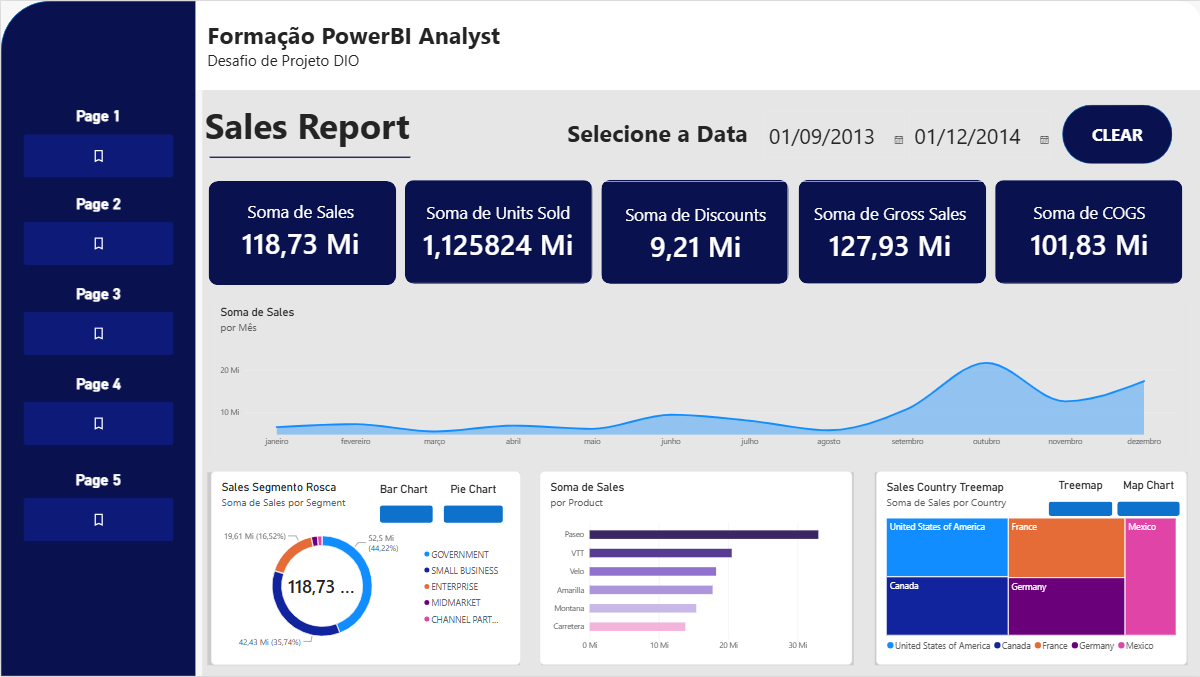

The dashboard page shown, as its layout file describes it:
{"tool":"powerbi","page":{"name":"Página 1","canvas":[1920,1080],"ordinal":0},"visuals":[{"type":"shape","box":[322.5,115,1597.5,965],"z":0},{"type":"shape","title":"Clear","box":[1697.9,166,176.2,94.5],"z":0,"group":"g3"},{"type":"shape","box":[644.5,286,300.5,166.7],"z":0,"group":"g1"},{"type":"shape","box":[330,287.2,300.5,166.7],"z":0,"group":"g6"},{"type":"clusteredBarChart","title":"Sales Segmento Barra","fields":{"Category":["financials.Segment"],"Y":["Sum(financials.Sales)"]},"box":[335,752.5,495,310],"z":0,"group":"g5"},{"type":"treemap","title":"Sales Country Treemap","fields":{"Group":["financials.Country"],"Values":["Sum(financials.Sales)"]},"box":[1400,752.5,497.5,310],"z":0,"group":"g4"},{"type":"shape","box":[863,753.2,500.4,308.9],"z":0,"group":"g2"},{"type":"shape","box":[312.5,0,1608.5,143],"z":1000},{"type":"slicer","fields":{"Values":["financials.Date"]},"box":[1210,170,510,85],"z":1000,"group":"g3"},{"type":"group","id":"g1","title":"Grupo 2","box":[325,285,1564.8,169.2],"z":1000,"group":"g6"},{"type":"shape","box":[959.4,286,300.5,166.7],"z":1000,"group":"g1"},{"type":"donutChart","title":"Sales Segmento Rosca","fields":{"Category":["financials.Segment"],"Y":["Sum(financials.Sales)"]},"box":[335,752.5,495,310],"z":1000,"group":"g5"},{"type":"shape","box":[329.4,753.2,500.4,308.9],"z":1000,"group":"g2"},{"type":"shape","box":[0,0,311.5,1080],"z":2000},{"type":"textbox","box":[905,185,297.5,70],"z":2000,"group":"g3"},{"type":"shape","box":[1274.3,286,300.5,166.7],"z":2000,"group":"g1"},{"type":"shape","box":[1396.6,753.2,500.4,308.9],"z":2000,"group":"g2"},{"type":"actionButton","title":"Treemap","box":[1676.2,763.7,102.5,60],"z":2000,"group":"g4"},{"type":"actionButton","title":"Bar Chart","box":[605,771.3,85,65],"z":2000,"group":"g5"},{"type":"textbox","box":[329.4,28.1,574.5,86.8],"z":3000},{"type":"actionButton","box":[1697.5,165,175,95],"z":3000,"group":"g3"},{"type":"shape","box":[1589.3,286,300.5,166.7],"z":3000,"group":"g1"},{"type":"actionButton","title":"Map Chart","box":[1786.2,763.7,100,60],"z":3000,"group":"g4"},{"type":"actionButton","title":"Pie Chart","box":[707.5,771.3,95,65],"z":3000,"group":"g5"},{"type":"shape","box":[334.5,240,321,20],"z":4000},{"type":"cardVisual","fields":{"Data":["Sum(financials.COGS)"]},"box":[1588,285,301.7,166.7],"z":4000,"group":"g1"},{"type":"textbox","box":[325,160,545,105],"z":5000},{"type":"cardVisual","fields":{"Data":["Sum(financials.Gross Sales)"]},"box":[1256.2,286.9,327.5,165],"z":5000,"group":"g1"},{"type":"cardVisual","fields":{"Data":["Sum(financials.Discounts)"]},"box":[958,287.5,301.7,166.7],"z":6000,"group":"g1"},{"type":"shape","box":[329.4,472.3,1567.7,263],"z":6000},{"type":"cardVisual","fields":{"Data":["Sum(financials.Units Sold)"]},"box":[643,285,301.7,166.7],"z":7000,"group":"g1"},{"type":"group","id":"g2","title":"Grupo 1","box":[329.4,753.2,1567.7,308.9],"z":7000},{"type":"cardVisual","fields":{"Data":["Sum(financials.Sales)"]},"box":[325,285,307.5,165],"z":8000,"group":"g1"},{"type":"areaChart","fields":{"Category":["financials.Date.Variation.Hierarquia de datas.Mês"],"Y":["Sum(financials.Sales)"]},"box":[334.5,472.3,1562.6,263],"z":8000},{"type":"clusteredBarChart","fields":{"Category":["financials.Product"],"Y":["Sum(financials.Sales)"]},"box":[862.5,752.5,500,310],"z":9000},{"type":"group","id":"g3","title":"Filtro por Data","box":[905,165,969,95.4],"z":10000},{"type":"group","id":"g4","title":"Sales x Country","box":[1400,752.5,497.5,310],"z":11000},{"type":"group","id":"g5","title":"Sales x Segmento","box":[335,752.5,495,310],"z":12000},{"type":"group","id":"g6","title":"Grupo 3","box":[325,285,1565,167.5],"z":13000},{"type":"actionButton","title":"Page 5","box":[35.5,751.3,240,112.5],"z":13250,"group":"g7"},{"type":"actionButton","title":"Page 4","box":[35.5,596.8,240,112.5],"z":13500,"group":"g7"},{"type":"group","id":"g7","title":"Grupo 3","box":[35,169,240.5,694.8],"z":14000},{"type":"actionButton","title":"Page 3","box":[35,452.5,240,112.5],"z":14000,"group":"g7"},{"type":"actionButton","title":"Page 2","box":[35.5,308.8,240,112.5],"z":15000,"group":"g7"},{"type":"actionButton","title":"Page 1","box":[35.5,169,240,112.5],"z":16000,"group":"g7"}]}

Visuals, with their boxes in screenshot pixels (x1, y1, x2, y2), scaled from the page's 1920x1080 canvas onto the 1200x677 screenshot:
shape: bbox(202, 72, 1199, 676)
"Clear" shape: bbox(1061, 104, 1171, 163)
shape: bbox(403, 179, 591, 284)
shape: bbox(206, 180, 394, 285)
"Sales Segmento Barra" clusteredBarChart: bbox(209, 472, 519, 666)
"Sales Country Treemap" treemap: bbox(875, 472, 1186, 666)
shape: bbox(539, 472, 852, 666)
shape: bbox(195, 0, 1199, 90)
slicer - financials.Date: bbox(756, 107, 1075, 160)
"Grupo 2" group: bbox(203, 179, 1181, 285)
shape: bbox(600, 179, 787, 284)
"Sales Segmento Rosca" donutChart: bbox(209, 472, 519, 666)
shape: bbox(206, 472, 519, 666)
shape: bbox(0, 0, 195, 676)
textbox: bbox(566, 116, 752, 160)
shape: bbox(796, 179, 984, 284)
shape: bbox(873, 472, 1186, 666)
"Treemap" actionButton: bbox(1048, 479, 1112, 516)
"Bar Chart" actionButton: bbox(378, 483, 431, 524)
textbox: bbox(206, 18, 565, 72)
actionButton: bbox(1061, 103, 1170, 163)
shape: bbox(993, 179, 1181, 284)
"Map Chart" actionButton: bbox(1116, 479, 1179, 516)
"Pie Chart" actionButton: bbox(442, 483, 502, 524)
shape: bbox(209, 150, 410, 163)
cardVisual - Sum(financials.COGS): bbox(992, 179, 1181, 283)
textbox: bbox(203, 100, 544, 166)
cardVisual - Sum(financials.Gross Sales): bbox(785, 180, 990, 283)
cardVisual - Sum(financials.Discounts): bbox(599, 180, 787, 285)
shape: bbox(206, 296, 1186, 461)
cardVisual - Sum(financials.Units Sold): bbox(402, 179, 590, 283)
"Grupo 1" group: bbox(206, 472, 1186, 666)
cardVisual - Sum(financials.Sales): bbox(203, 179, 395, 282)
areaChart - financials.Date.Variation.Hierarquia de datas.Mês x Sum(financials.Sales): bbox(209, 296, 1186, 461)
clusteredBarChart - financials.Product x Sum(financials.Sales): bbox(539, 472, 852, 666)
"Filtro por Data" group: bbox(566, 103, 1171, 163)
"Sales x Country" group: bbox(875, 472, 1186, 666)
"Sales x Segmento" group: bbox(209, 472, 519, 666)
"Grupo 3" group: bbox(203, 179, 1181, 284)
"Page 5" actionButton: bbox(22, 471, 172, 541)
"Page 4" actionButton: bbox(22, 374, 172, 445)
"Grupo 3" group: bbox(22, 106, 172, 541)
"Page 3" actionButton: bbox(22, 284, 172, 354)
"Page 2" actionButton: bbox(22, 194, 172, 264)
"Page 1" actionButton: bbox(22, 106, 172, 176)
